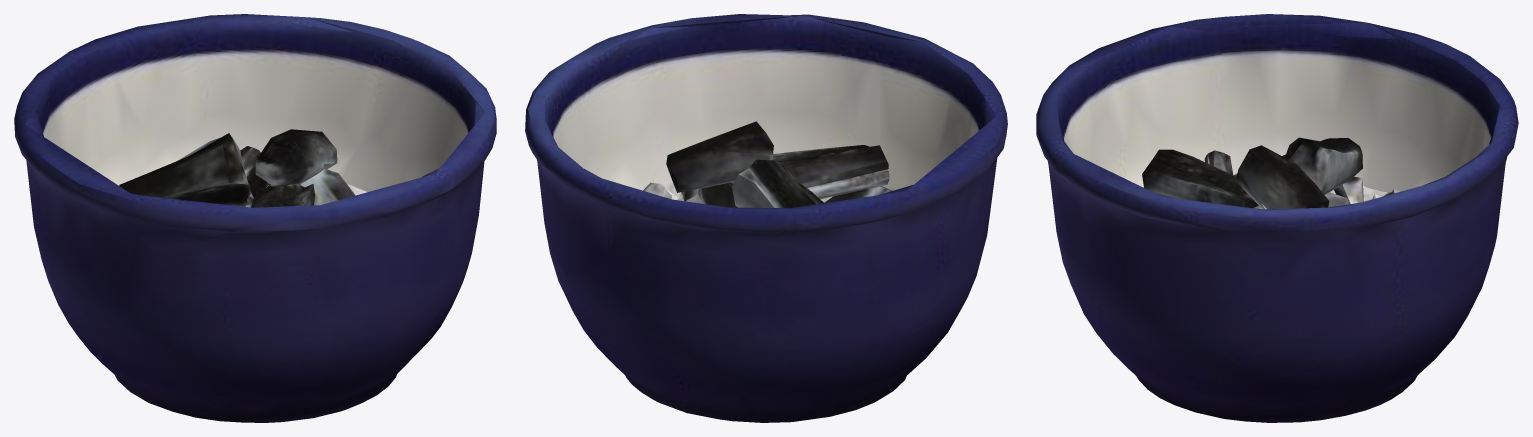
Rendered from hibachi.glb.
The picture shows the model from 3 angles, left to right: view 1: azimuth 30°, elevation 25°; view 2: azimuth 150°, elevation 25°; view 3: azimuth 270°, elevation 25°; orthographic projection.
Parts seen in each view (by area): view 1: hibachi; view 2: hibachi; view 3: hibachi.
Boxes of the visible parts, x1,y1,x2,y2 form: hibachi: (14, 14, 496, 422); hibachi: (525, 14, 1007, 422); hibachi: (1036, 14, 1518, 422).
Size of the model in its own units: 0.6274 by 0.36 by 0.6275.
Materials: 1 (1 with a texture image).
